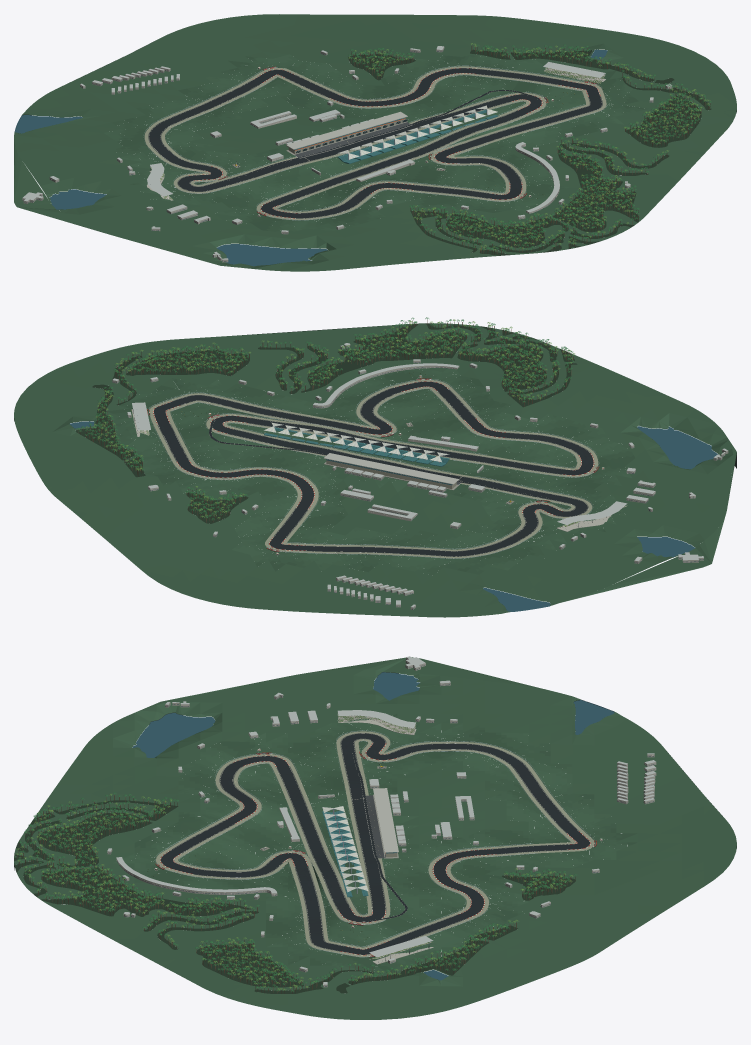
Rendered from Sepang.glb.
3 views of the same model, one above another, from view 1: azimuth 30°, elevation 25°; view 2: azimuth 150°, elevation 25°; view 3: azimuth 270°, elevation 25° (orthographic). The views are drawn at different scales.
Parts seen in each view (by area): view 1: terrain/ground, terrain-woodland/forestFloor, road/asphalt, terrain-ground-finish-1, terrain-ground-finish-3, terrain-ground-finish-2, runoff/gravel, terrain-ground-finish-0, scenery/leaves, terrain-ground-finish-4, scenery/wood, scenery/leavesLight (+11 smaller); view 2: terrain/ground, terrain-woodland/forestFloor, terrain-ground-finish-1, road/asphalt, terrain-ground-finish-3, terrain-ground-finish-2, runoff/gravel, terrain-ground-finish-0, terrain-ground-finish-4, scenery/leaves, scenery/wood, scenery/leavesLight (+11 smaller); view 3: terrain/ground, terrain-woodland/forestFloor, road/asphalt, terrain-ground-finish-1, terrain-ground-finish-3, terrain-ground-finish-2, runoff/gravel, terrain-ground-finish-0, terrain-ground-finish-4, scenery/leaves, scenery/wood, scenery/leavesLight (+10 smaller).
Boxes of the visible parts, box(x1,y1,x2,y2) form: terrain/ground: box(14, 14, 736, 271); terrain-woodland/forestFloor: box(348, 49, 711, 255); road/asphalt: box(149, 68, 601, 218); terrain-ground-finish-1: box(111, 54, 648, 231); terrain-ground-finish-3: box(107, 54, 633, 231); terrain-ground-finish-2: box(107, 54, 635, 232); runoff/gravel: box(144, 66, 606, 219); terrain-ground-finish-0: box(119, 55, 644, 230); scenery/leaves: box(348, 44, 711, 251); terrain-ground-finish-4: box(104, 54, 623, 230); scenery/wood: box(349, 46, 710, 254); scenery/leavesLight: box(348, 43, 710, 250); terrain/ground: box(14, 323, 733, 617); terrain-woodland/forestFloor: box(76, 323, 577, 523); terrain-ground-finish-1: box(113, 369, 633, 575); road/asphalt: box(154, 381, 593, 556); terrain-ground-finish-3: box(120, 368, 629, 571); terrain-ground-finish-2: box(113, 369, 631, 574); runoff/gravel: box(149, 379, 598, 558); terrain-ground-finish-0: box(107, 371, 634, 572); terrain-ground-finish-4: box(128, 368, 632, 570); scenery/leaves: box(77, 317, 574, 520); scenery/wood: box(78, 320, 573, 522); scenery/leavesLight: box(85, 319, 574, 518); terrain/ground: box(14, 669, 736, 1019); terrain-woodland/forestFloor: box(14, 800, 575, 993); road/asphalt: box(160, 733, 589, 954); terrain-ground-finish-1: box(134, 716, 631, 971); terrain-ground-finish-3: box(124, 716, 626, 970); terrain-ground-finish-2: box(134, 718, 621, 970); runoff/gravel: box(156, 731, 594, 956); terrain-ground-finish-0: box(134, 714, 637, 973); terrain-ground-finish-4: box(113, 717, 620, 956); scenery/leaves: box(17, 792, 576, 991); scenery/wood: box(17, 795, 575, 993); scenery/leavesLight: box(16, 794, 573, 990).
Bounding box in the file's own units: 1939 × 66.71 × 1652.
